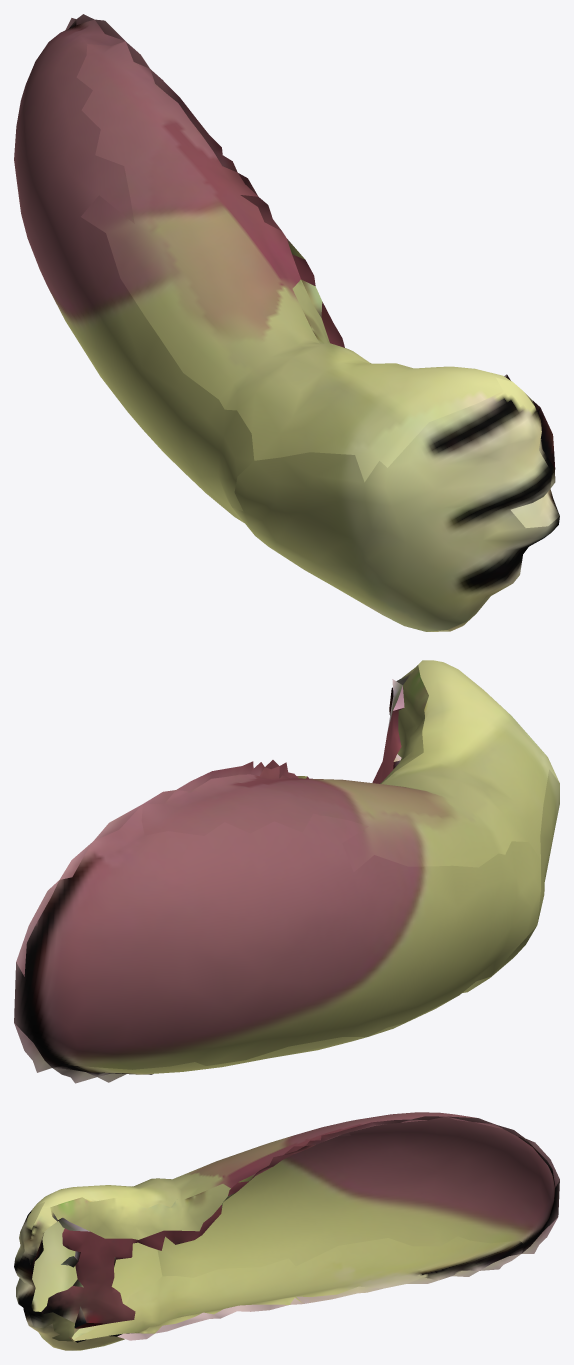
The model's file is enemy_cake_right.fbx.
3 renders of one model, top to bottom at view 1: azimuth 30°, elevation 25°; view 2: azimuth 150°, elevation 25°; view 3: azimuth 270°, elevation 25°, orthographic. The views are drawn at different scales.
Visible parts, largest first — view 1: tmpc24ce_z0.ply.001; view 2: tmpc24ce_z0.ply.001; view 3: tmpc24ce_z0.ply.001.
Boxes of the visible parts, x1=… form: tmpc24ce_z0.ply.001: x1=14, y1=14, x2=559, y2=631; tmpc24ce_z0.ply.001: x1=14, y1=660, x2=559, y2=1083; tmpc24ce_z0.ply.001: x1=14, y1=1112, x2=559, y2=1350.
Bounding box in the file's own units: 25.08 × 37.07 × 79.52.
